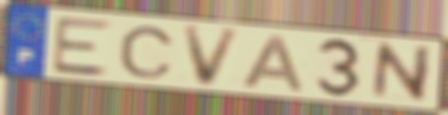3: (311, 36, 365, 100)
A: (238, 33, 307, 93)
C: (117, 24, 177, 80)
E: (49, 16, 116, 78)
N: (369, 42, 436, 104)
V: (181, 25, 245, 89)
